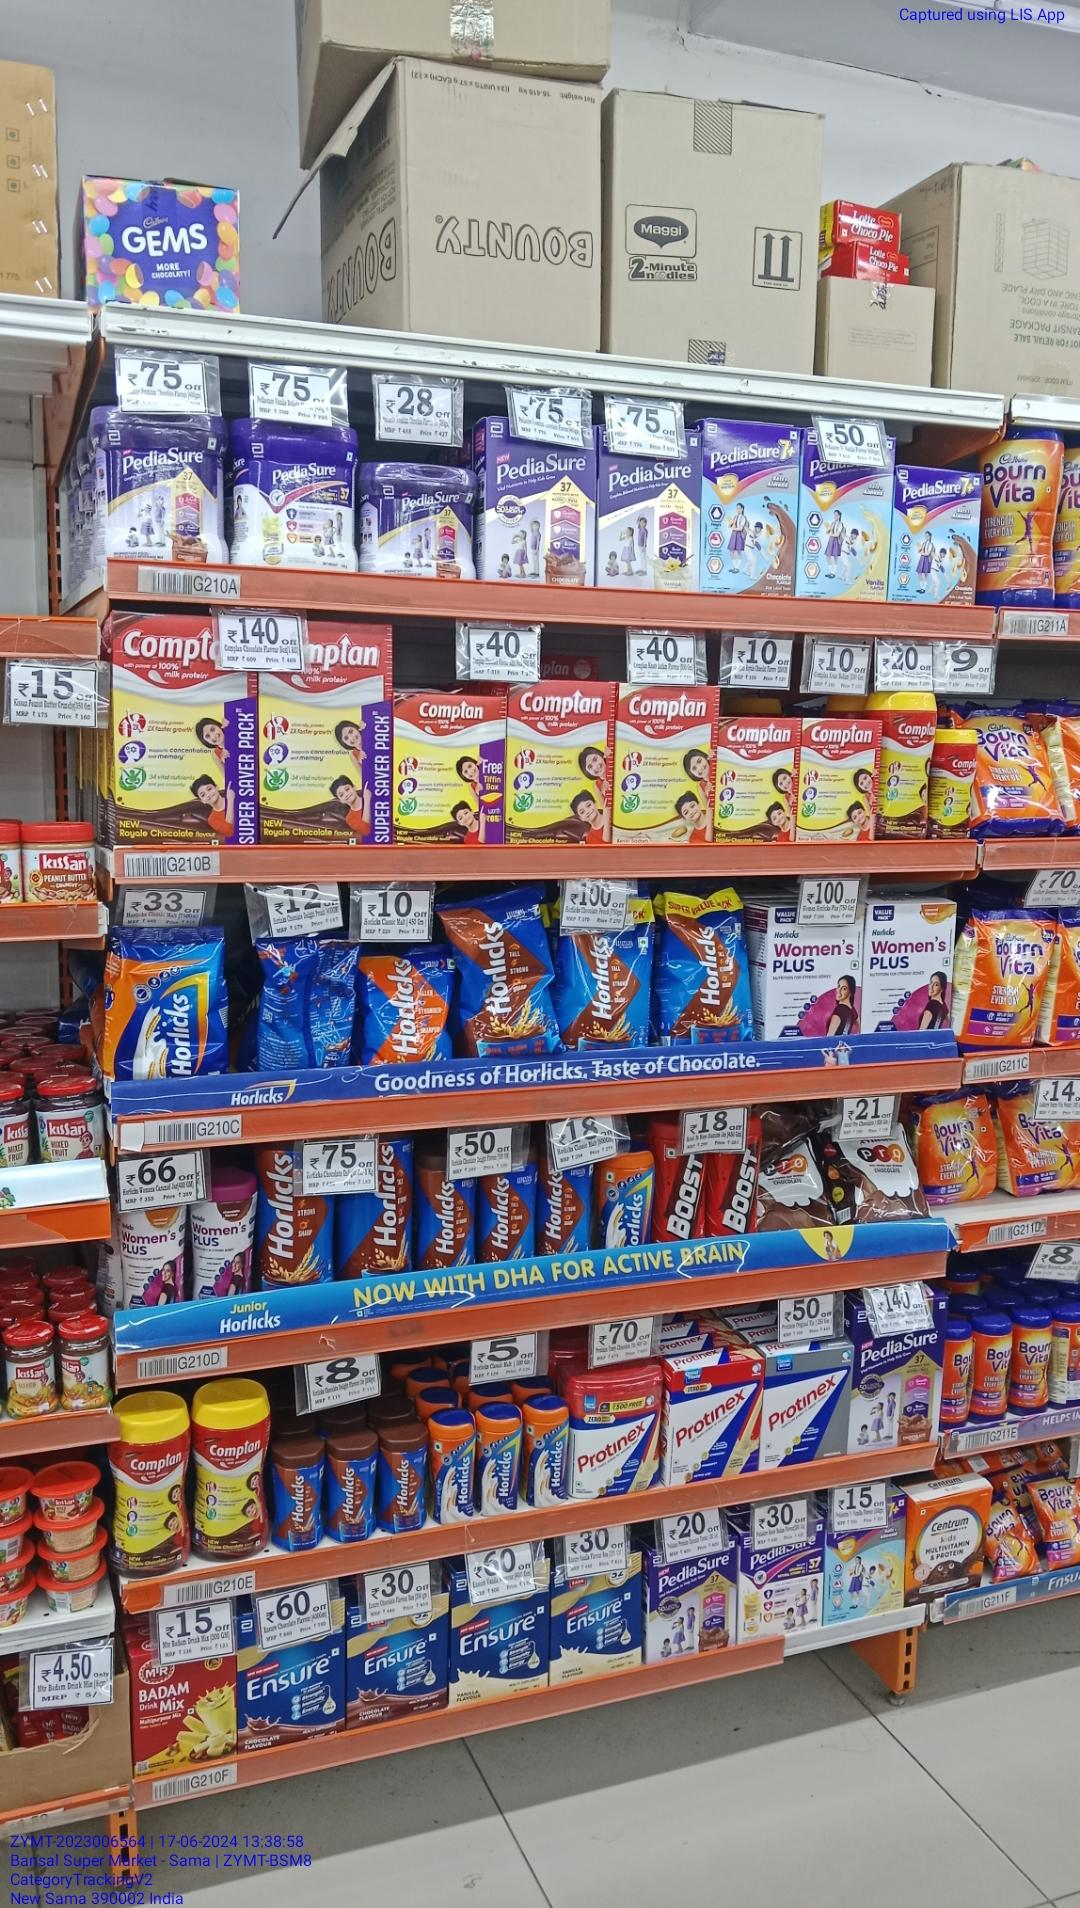BOURN_VITA_1_KG_JAR: (982, 427, 1056, 607)
BOURN_VITA_500_G_JAR: (974, 1313, 1011, 1424), (1014, 1310, 1050, 1419), (942, 1318, 973, 1431)
BOURN_VITA_500_G_POUCH: (916, 1090, 996, 1203), (1004, 1094, 1080, 1191)
BOURN_VITA_750_G_POUCH: (962, 908, 1050, 1047), (983, 708, 1063, 832)
COMPLAN_CHOCOLATE_1_KG_PACK: (110, 615, 261, 845), (265, 620, 393, 845)
COMPLAN_CHOCOLATE_200_GMS_JAR: (935, 730, 980, 840)
COMPLAN_CHOCOLATE_200_GMS_PACK: (714, 719, 798, 841)
COMPLAN_CHOCOLATE_500_GMS_JAR: (189, 1377, 271, 1559), (110, 1389, 186, 1575), (877, 689, 935, 840)
COMPLAN_CHOCOLATE_500_GMS_PACK: (396, 697, 506, 848), (510, 687, 613, 844)
COMPLAN_KESAR_BADAM_200_GMS_PACK: (802, 721, 874, 840)
COMPLAN_KESAR_BADAM_500_GMS_PACK: (615, 684, 713, 843)
ENSURE_VANILLA_400_G_PACK: (453, 1582, 550, 1689), (554, 1561, 642, 1669)
HORLICK_CHOCOLATE_200_G_JAR: (417, 1156, 474, 1267), (273, 1434, 325, 1553), (380, 1419, 431, 1535), (328, 1428, 375, 1541), (478, 1164, 533, 1257), (537, 1162, 590, 1257)
HORLICK_CHOCOLATE_500_G_JAR: (260, 1149, 330, 1286), (342, 1139, 410, 1275)
HORLICK_CHOCOLATE_750_G_POUCH: (448, 898, 561, 1051)
HORLICK_CLASSIC_MALT_200_G_JAR: (595, 1154, 657, 1250), (524, 1393, 571, 1507), (433, 1409, 476, 1527), (478, 1401, 522, 1514)
HORLICK_CLASSIC_MALT_750_G_POUCH: (102, 926, 228, 1077), (362, 944, 443, 1067)
PEDIASURE_7_PLUS_CHOCOLATE_400_G_PACK: (893, 469, 979, 604)
PEDIASURE_CHOCOLATE_500_G_PACK: (488, 431, 594, 587), (852, 1304, 940, 1449), (650, 1549, 735, 1655)
PEDIASURE_VANILLA_500_G_PACK: (598, 446, 700, 595)
PROTINEX_VANILLA_400_G_JAR: (573, 1372, 662, 1500)
